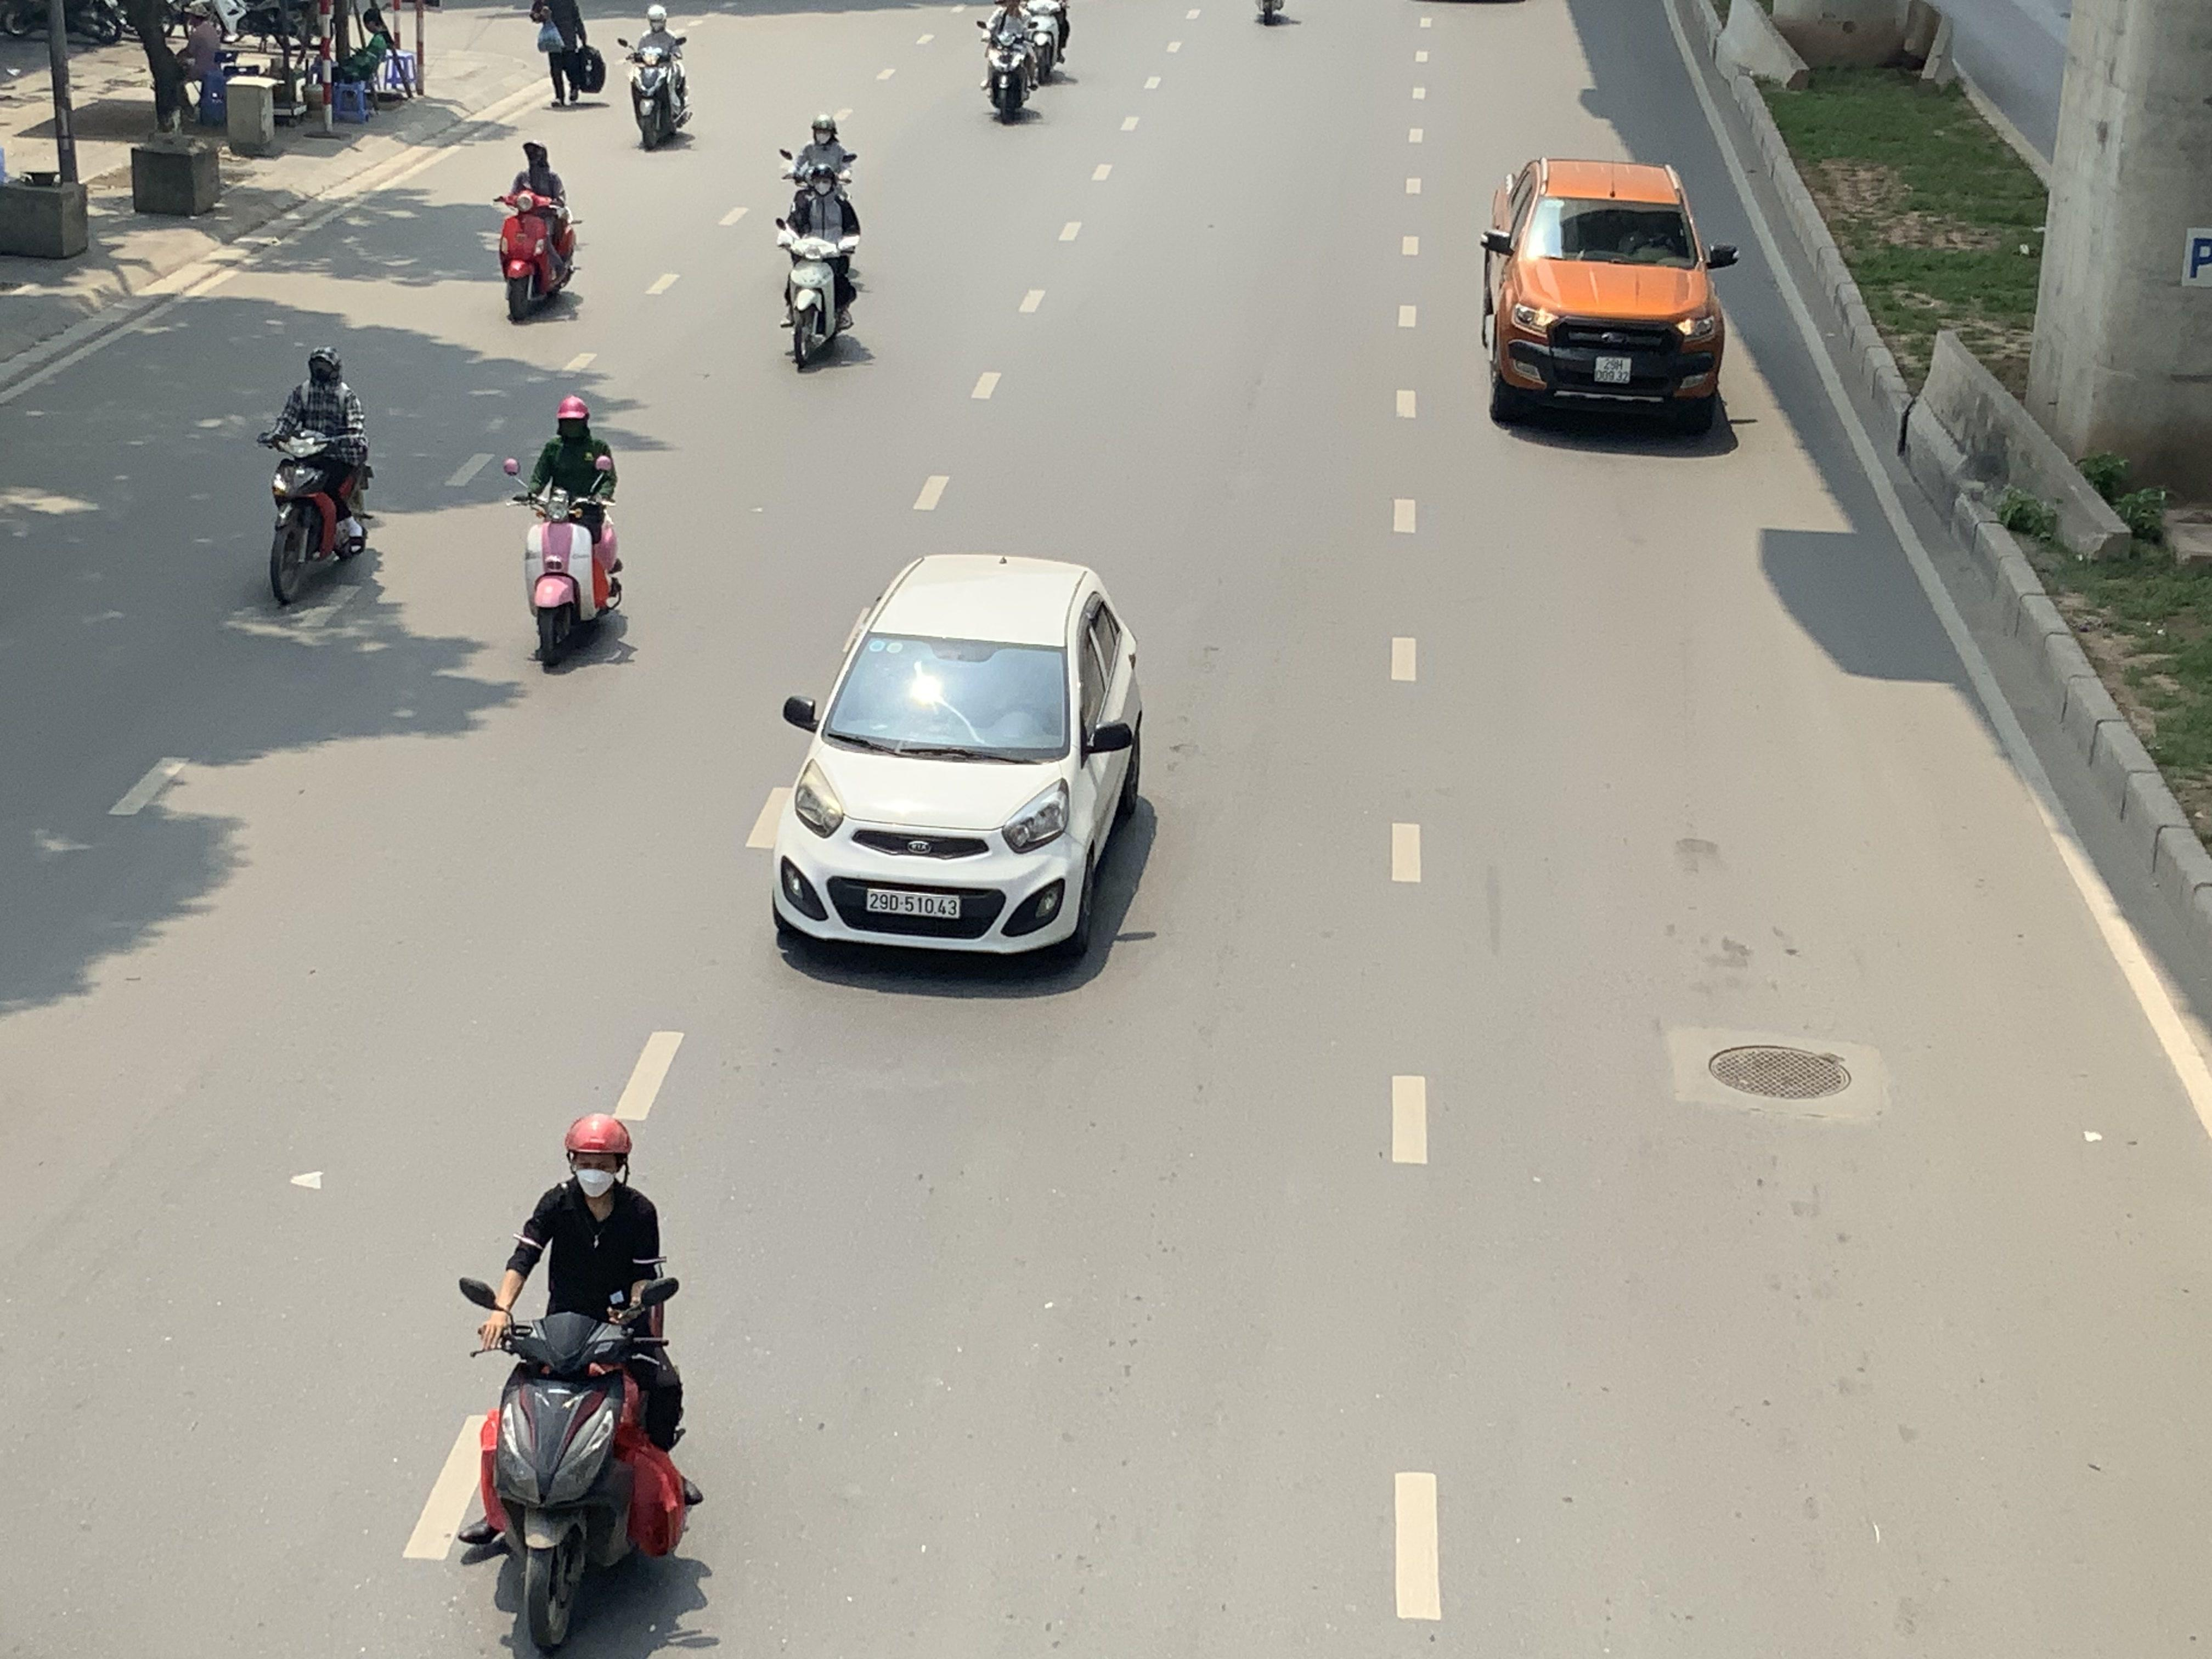BSD: (867, 889, 960, 920)
BSV: (1594, 357, 1632, 383)
car: (772, 552, 1148, 967), (1479, 155, 1738, 436)
motorbike: (453, 1112, 698, 1657), (510, 394, 627, 674), (260, 345, 376, 606), (777, 159, 862, 373), (495, 139, 580, 324), (624, 3, 693, 152), (979, 0, 1040, 124), (1019, 0, 1073, 82), (1252, 0, 1292, 26)
